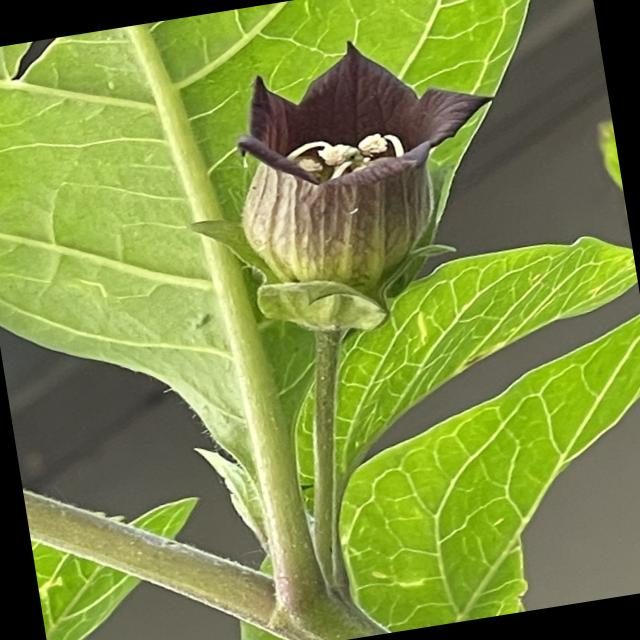Belladonna: (13, 0, 640, 640), (139, 48, 502, 350)
